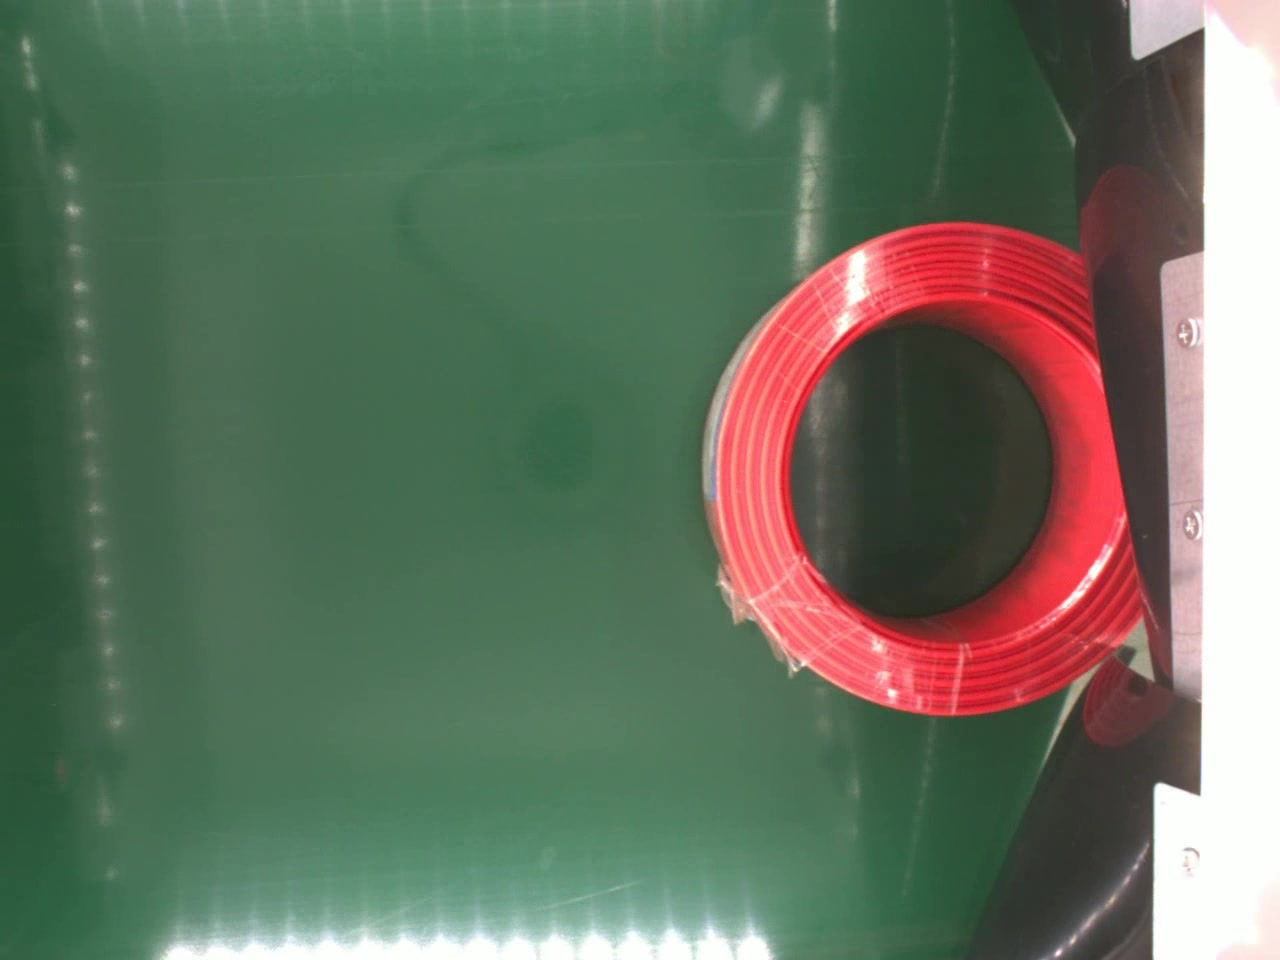red: (696, 219, 1151, 714)
